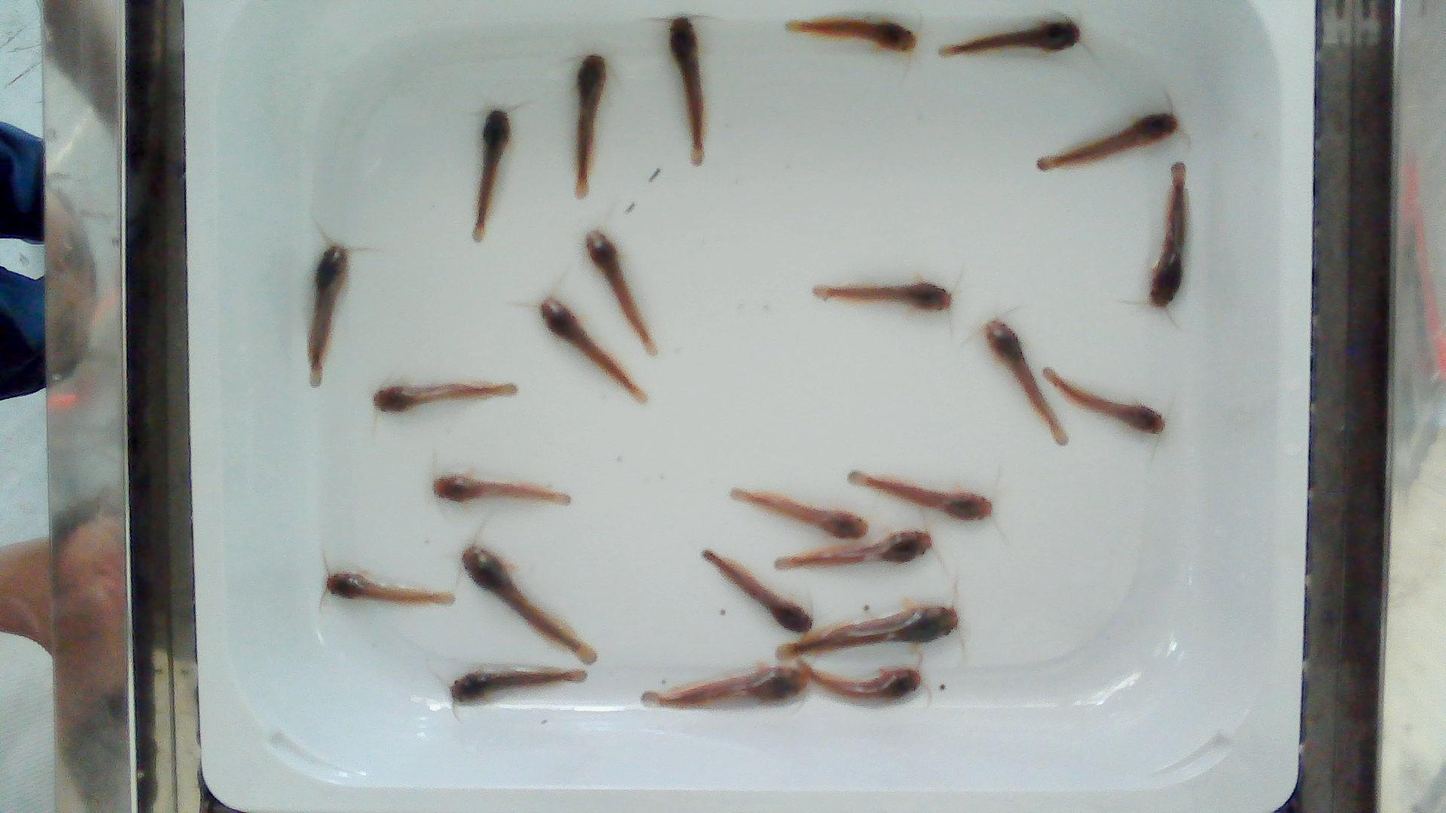lele: (462, 544, 596, 664), (540, 297, 646, 401), (984, 318, 1068, 445), (703, 550, 813, 635), (792, 604, 959, 653), (1036, 113, 1179, 170), (1043, 368, 1166, 434), (585, 230, 651, 348), (849, 471, 993, 521), (731, 489, 868, 540), (642, 667, 810, 708), (776, 531, 931, 570), (1149, 163, 1188, 307), (308, 244, 347, 385), (670, 17, 706, 163), (940, 20, 1080, 56), (450, 668, 586, 705), (786, 17, 917, 53), (813, 279, 952, 312), (433, 473, 571, 505), (326, 571, 455, 605), (374, 383, 517, 413), (808, 665, 922, 701), (575, 57, 602, 198), (478, 108, 511, 220)
